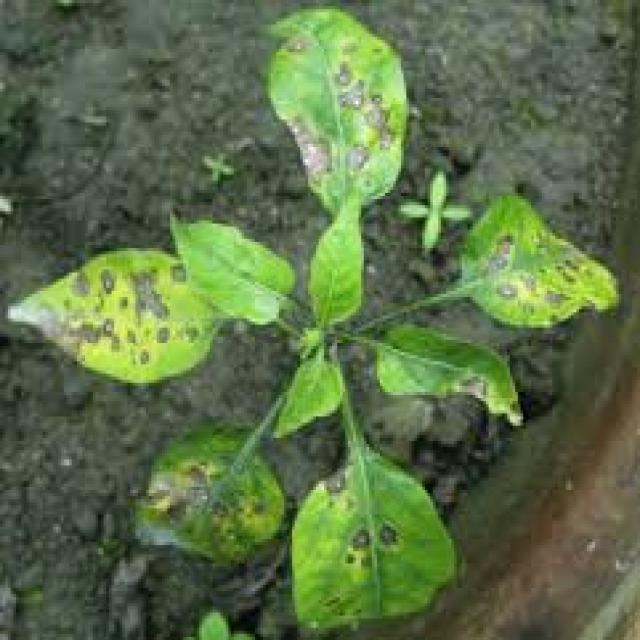bercak_daun: (266, 7, 428, 215), (7, 242, 217, 384)
